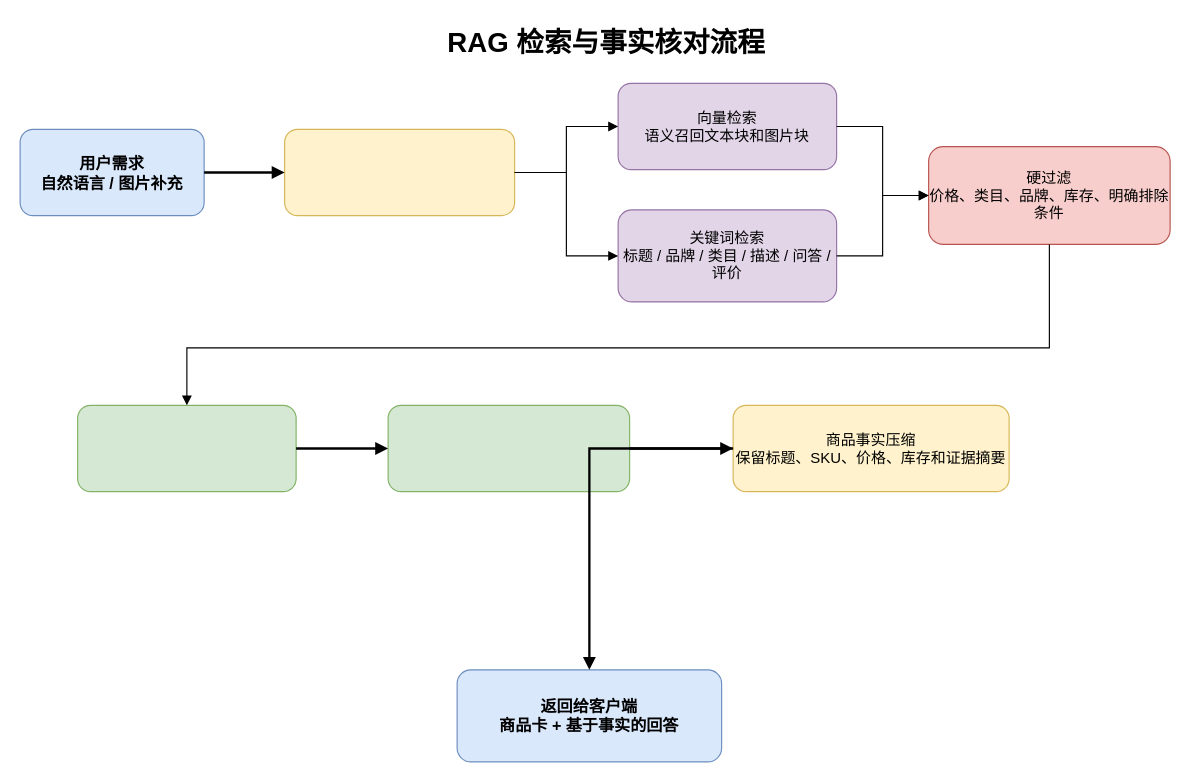
Some shapes in this 1190 by 782 pixel diagram are drawn without their labels. The shapes that lost their labels are listed below. From the top down, each one's centre as x and y in pixels, then its label:
point (399, 172): 结构化意图 类目 / 价格 / 品牌 / 排除项 / 排序偏好
point (186, 448): 排名融合 向量结果 + 关键词结果
point (508, 448): 排序与重排 相关度 / 价格偏好 / 最近展示排除
